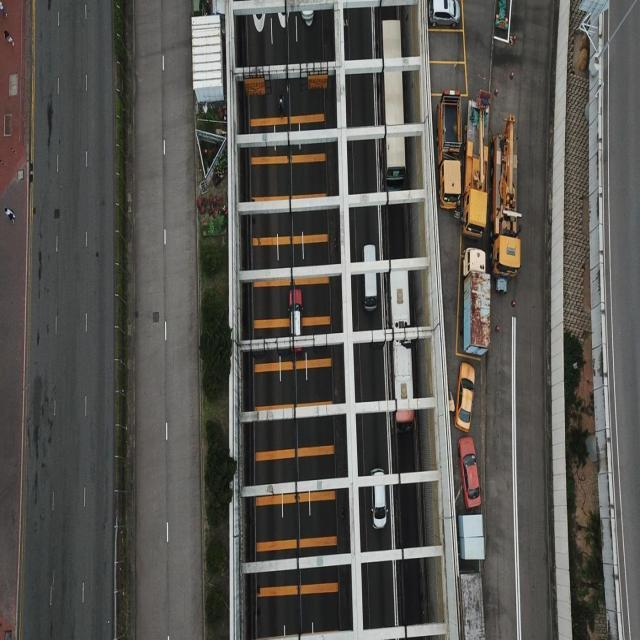p3rson: (4, 206, 16, 224), (3, 29, 15, 47), (0, 0, 8, 19)
